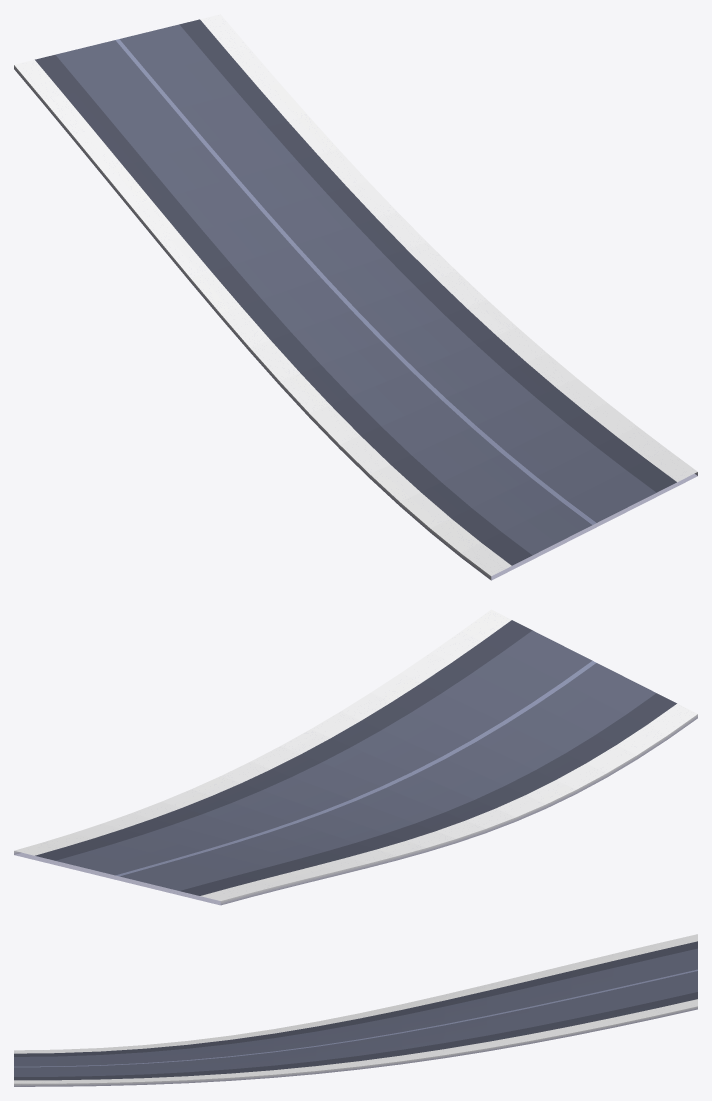
File: road-Straight-HalfBankedLeft-BiSlopeUp-Up3-Center-Size4.glb
The picture shows the model from 3 angles, top to bottom: view 1: azimuth 30°, elevation 25°; view 2: azimuth 150°, elevation 25°; view 3: azimuth 270°, elevation 25°; orthographic projection. The views are drawn at different scales.
Visible parts, largest first — view 1: road-Straight-HalfBankedLeft-BiSlopeUp-Up3-Center-Size4; view 2: road-Straight-HalfBankedLeft-BiSlopeUp-Up3-Center-Size4; view 3: road-Straight-HalfBankedLeft-BiSlopeUp-Up3-Center-Size4.
Boxes of the visible parts, x1,y1,x2,y2 form: road-Straight-HalfBankedLeft-BiSlopeUp-Up3-Center-Size4: (14,14,697,580); road-Straight-HalfBankedLeft-BiSlopeUp-Up3-Center-Size4: (14,609,697,905); road-Straight-HalfBankedLeft-BiSlopeUp-Up3-Center-Size4: (14,934,697,1086).
Size of the model in its own units: 1 by 0.77 by 4.
1 material, 1 textured.
